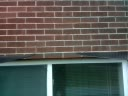window: (0, 5, 34, 96), (38, 76, 65, 96), (40, 39, 62, 57), (86, 85, 104, 96), (87, 58, 94, 70)
